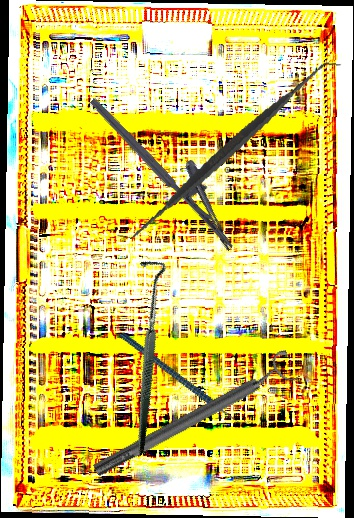Chopper: (118, 300, 253, 456)
Fixation Ring: (86, 347, 302, 486)
Hook Surgical: (52, 252, 236, 457)
Needle Holder: (88, 77, 255, 253)
Spatula Surgical: (116, 35, 343, 265)
